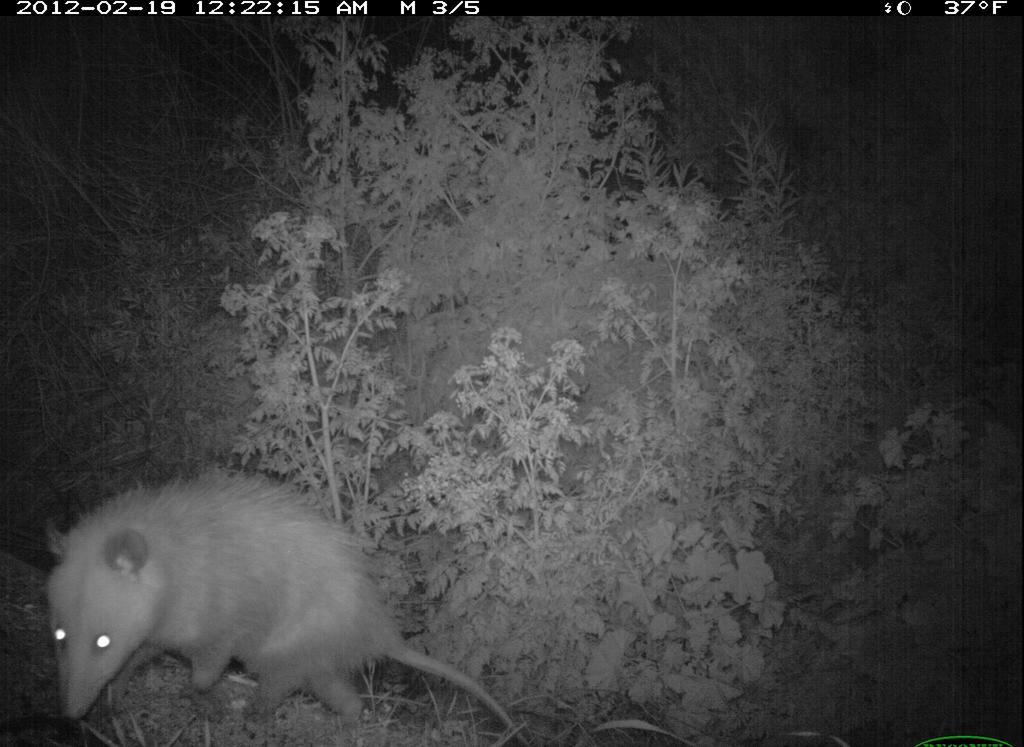opossum: (41, 466, 537, 747)
